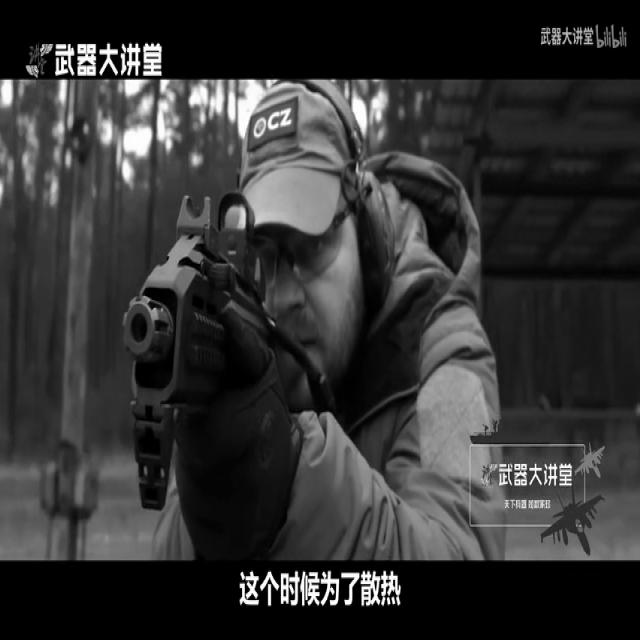Sub-machine-gun: (123, 176, 280, 468)
